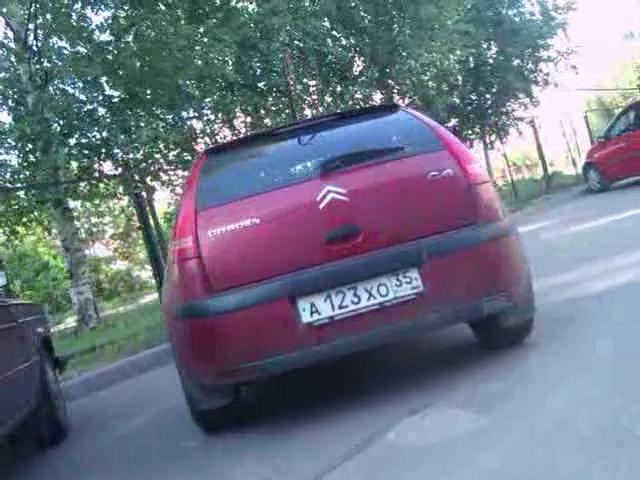car license plate: (293, 263, 426, 333)
